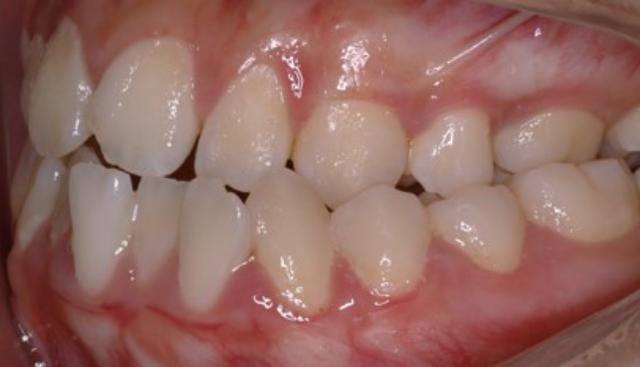canine class III 1/4: (245, 85, 432, 326)
molar class II 1/2: (497, 87, 639, 257)
